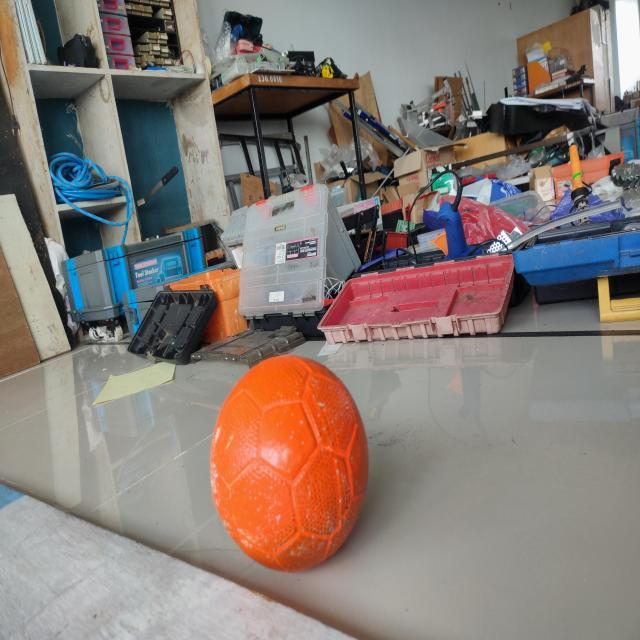bola: (198, 348, 378, 566)
